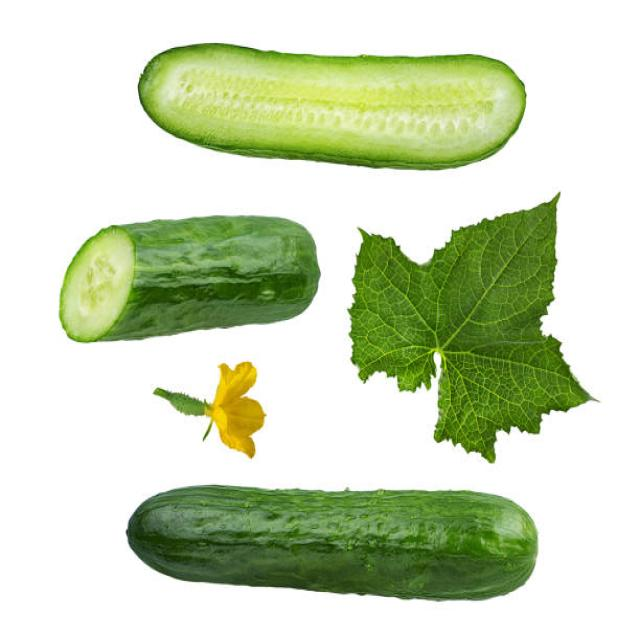cucumber: (137, 42, 527, 174), (128, 483, 539, 599), (60, 214, 318, 346)
